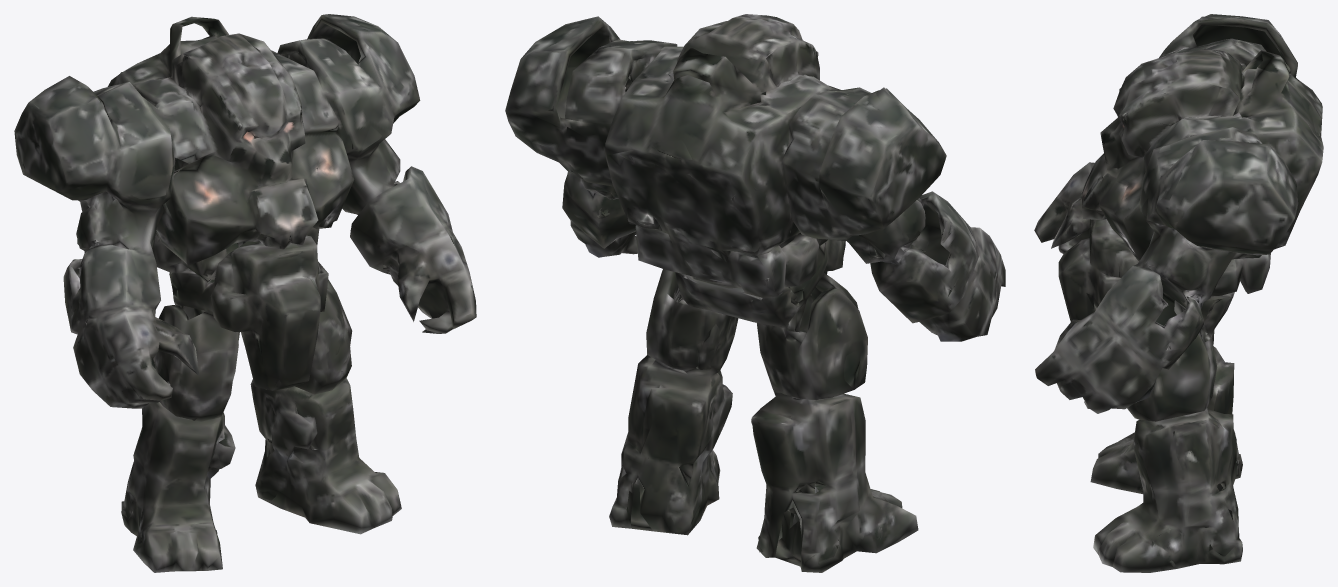
Rendered from golem.glb.
The picture shows the model from 3 angles, left to right: view 1: azimuth 30°, elevation 25°; view 2: azimuth 150°, elevation 25°; view 3: azimuth 270°, elevation 25°; orthographic projection. The views are drawn at different scales.
Bounding box in the file's own units: 0.8142 × 0.994 × 0.5692.
1 material, 1 textured.
